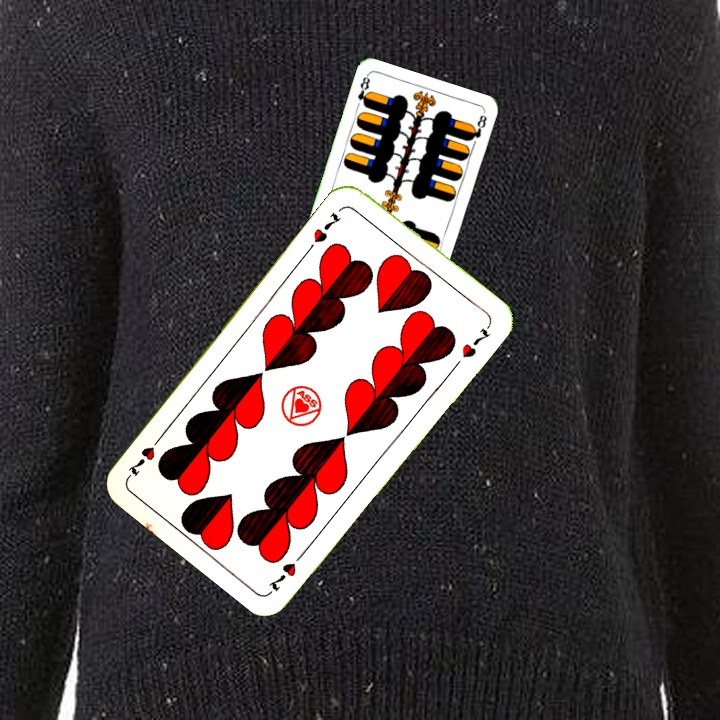E8: (353, 72, 373, 110)
H7: (264, 546, 309, 595), (309, 208, 344, 246)
